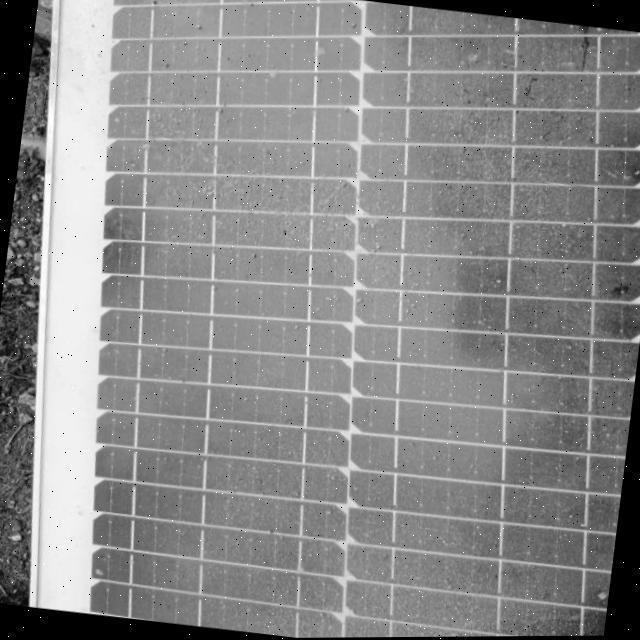Surface Contaminant: (67, 0, 640, 638)
